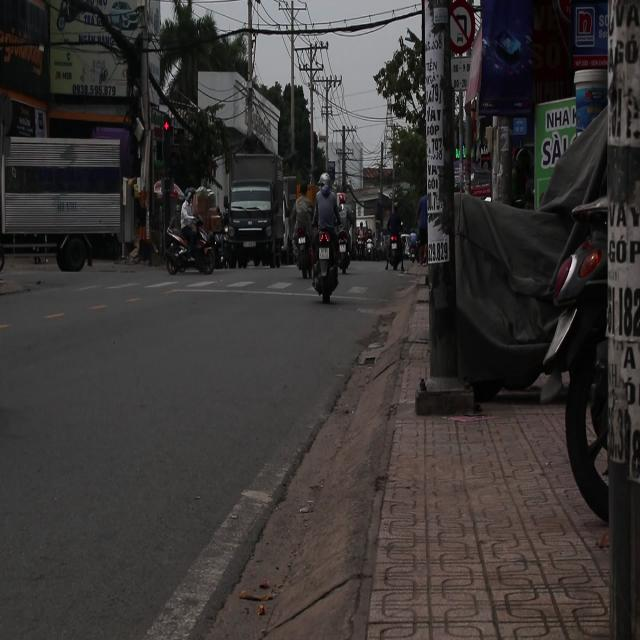motorbike: (310, 185, 349, 302), (164, 218, 217, 277)
truck: (226, 152, 286, 270)
